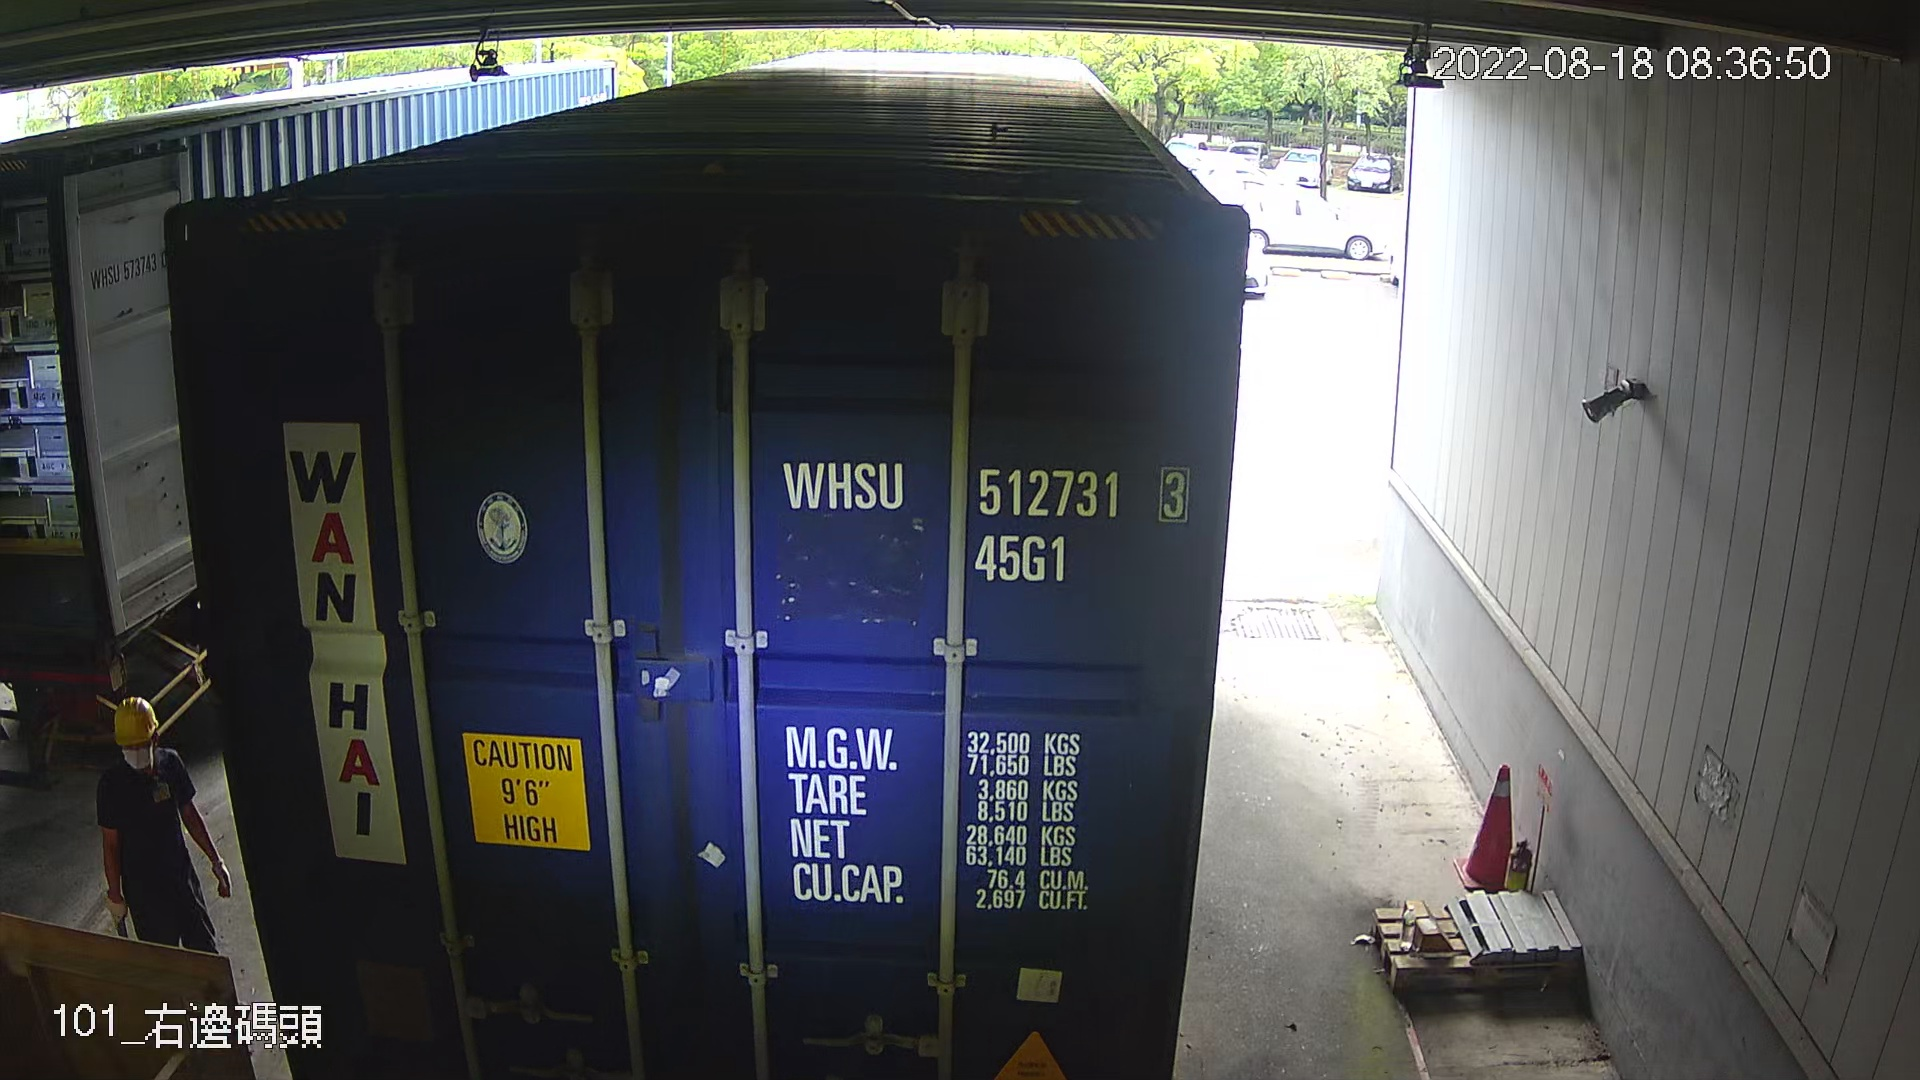container: (757, 427, 1201, 601)
